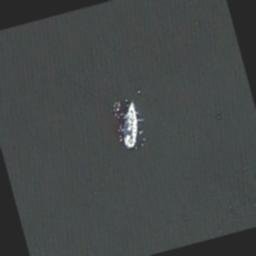boat: (110, 98, 146, 152)
